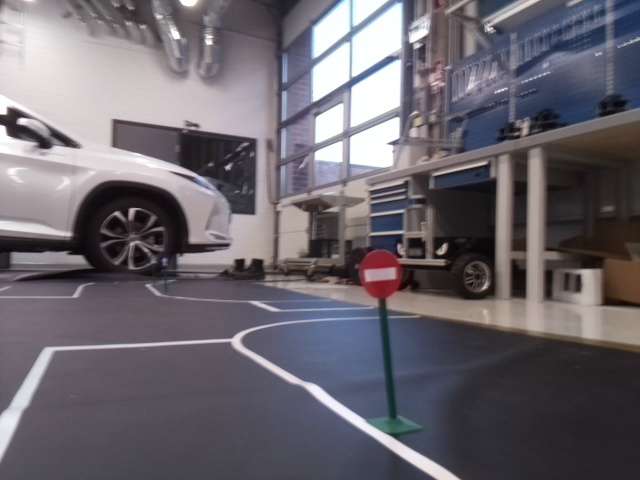NoEntry: (357, 251, 401, 298)
